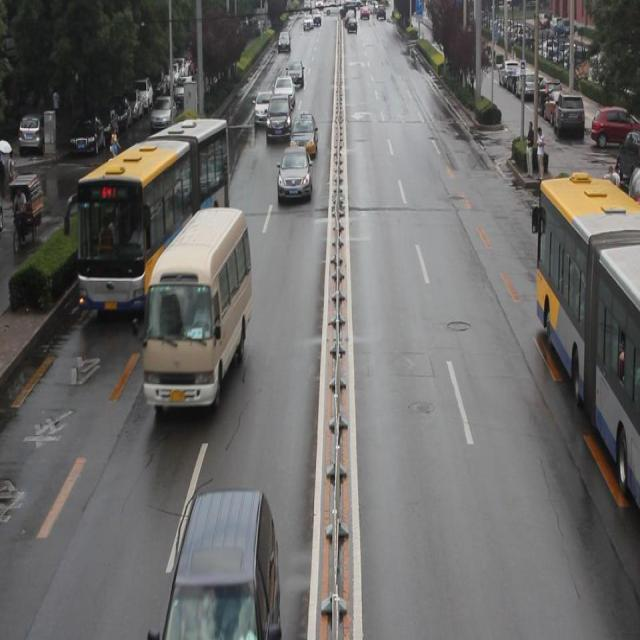car: (166, 492, 283, 640), (108, 151, 173, 210), (276, 145, 312, 200), (183, 121, 216, 171), (289, 113, 317, 161), (266, 92, 291, 142), (253, 89, 277, 128)
truck: (147, 206, 254, 410)
van: (531, 183, 640, 519), (73, 125, 234, 315)
